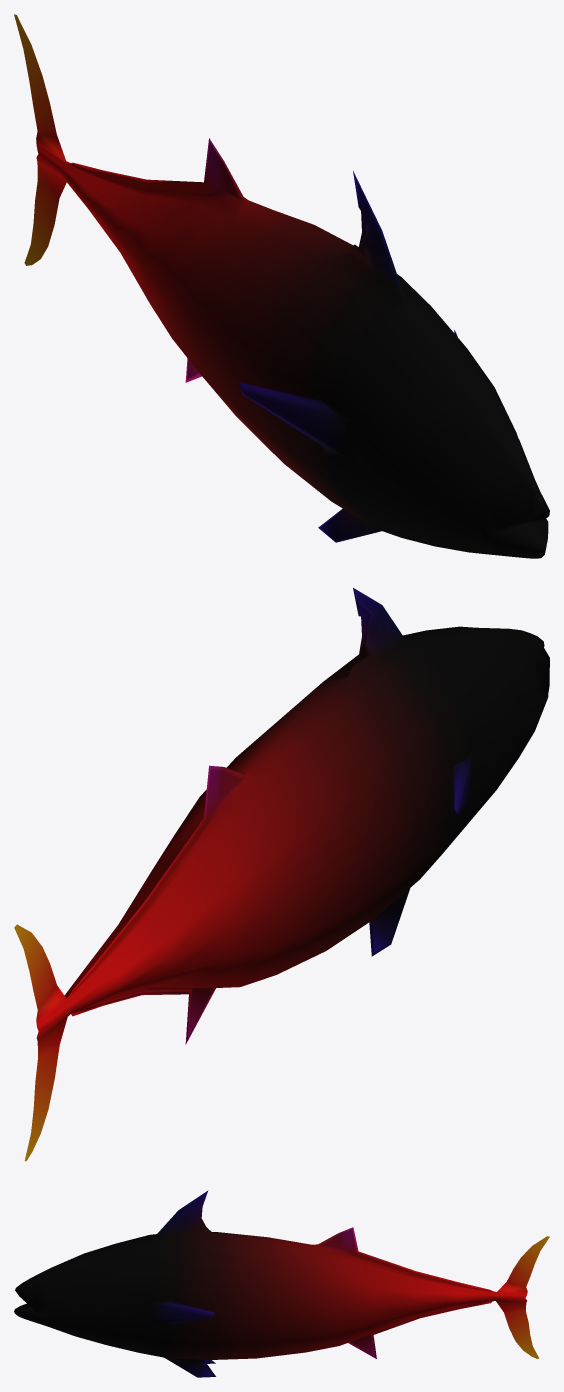
3 views of the same model, one above another, from view 1: azimuth 30°, elevation 25°; view 2: azimuth 150°, elevation 25°; view 3: azimuth 270°, elevation 25° (orthographic). The views are drawn at different scales.
Visible parts, largest first — view 1: little tunny final; view 2: little tunny final; view 3: little tunny final.
Boxes of the visible parts, x1,y1,x2,y2 form: little tunny final: (14, 14, 549, 558); little tunny final: (14, 588, 549, 1161); little tunny final: (14, 1190, 549, 1377).
Bounding box in the file's own units: 0.1837 × 0.291 × 0.7828.
